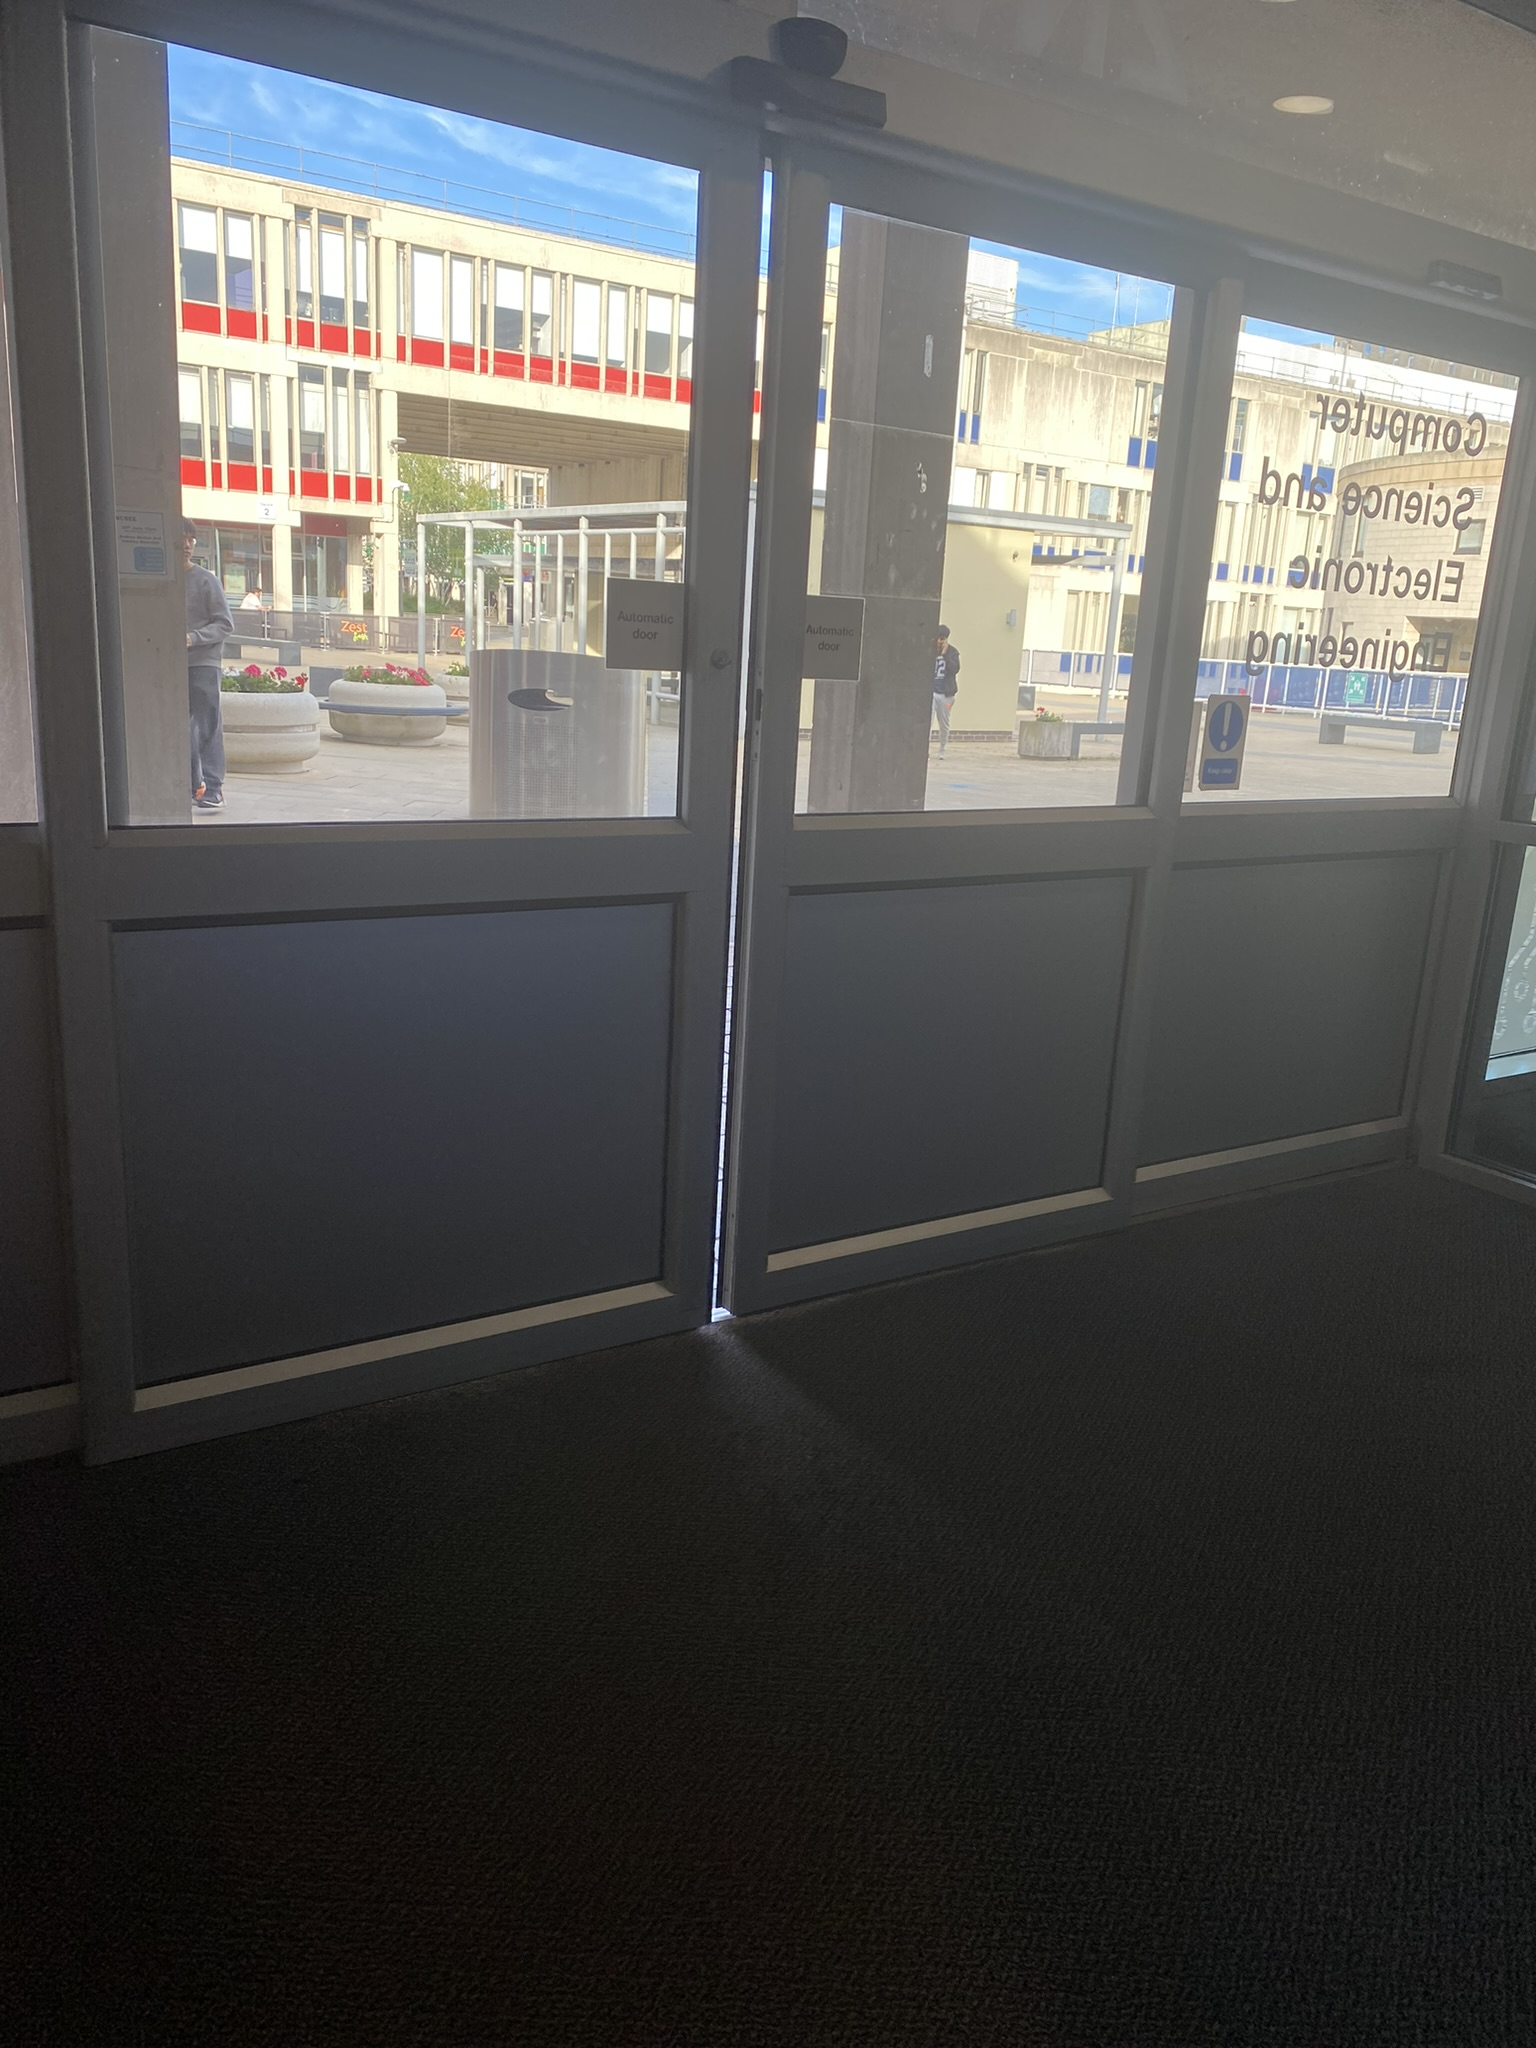automatic door: (66, 6, 1323, 1263)
